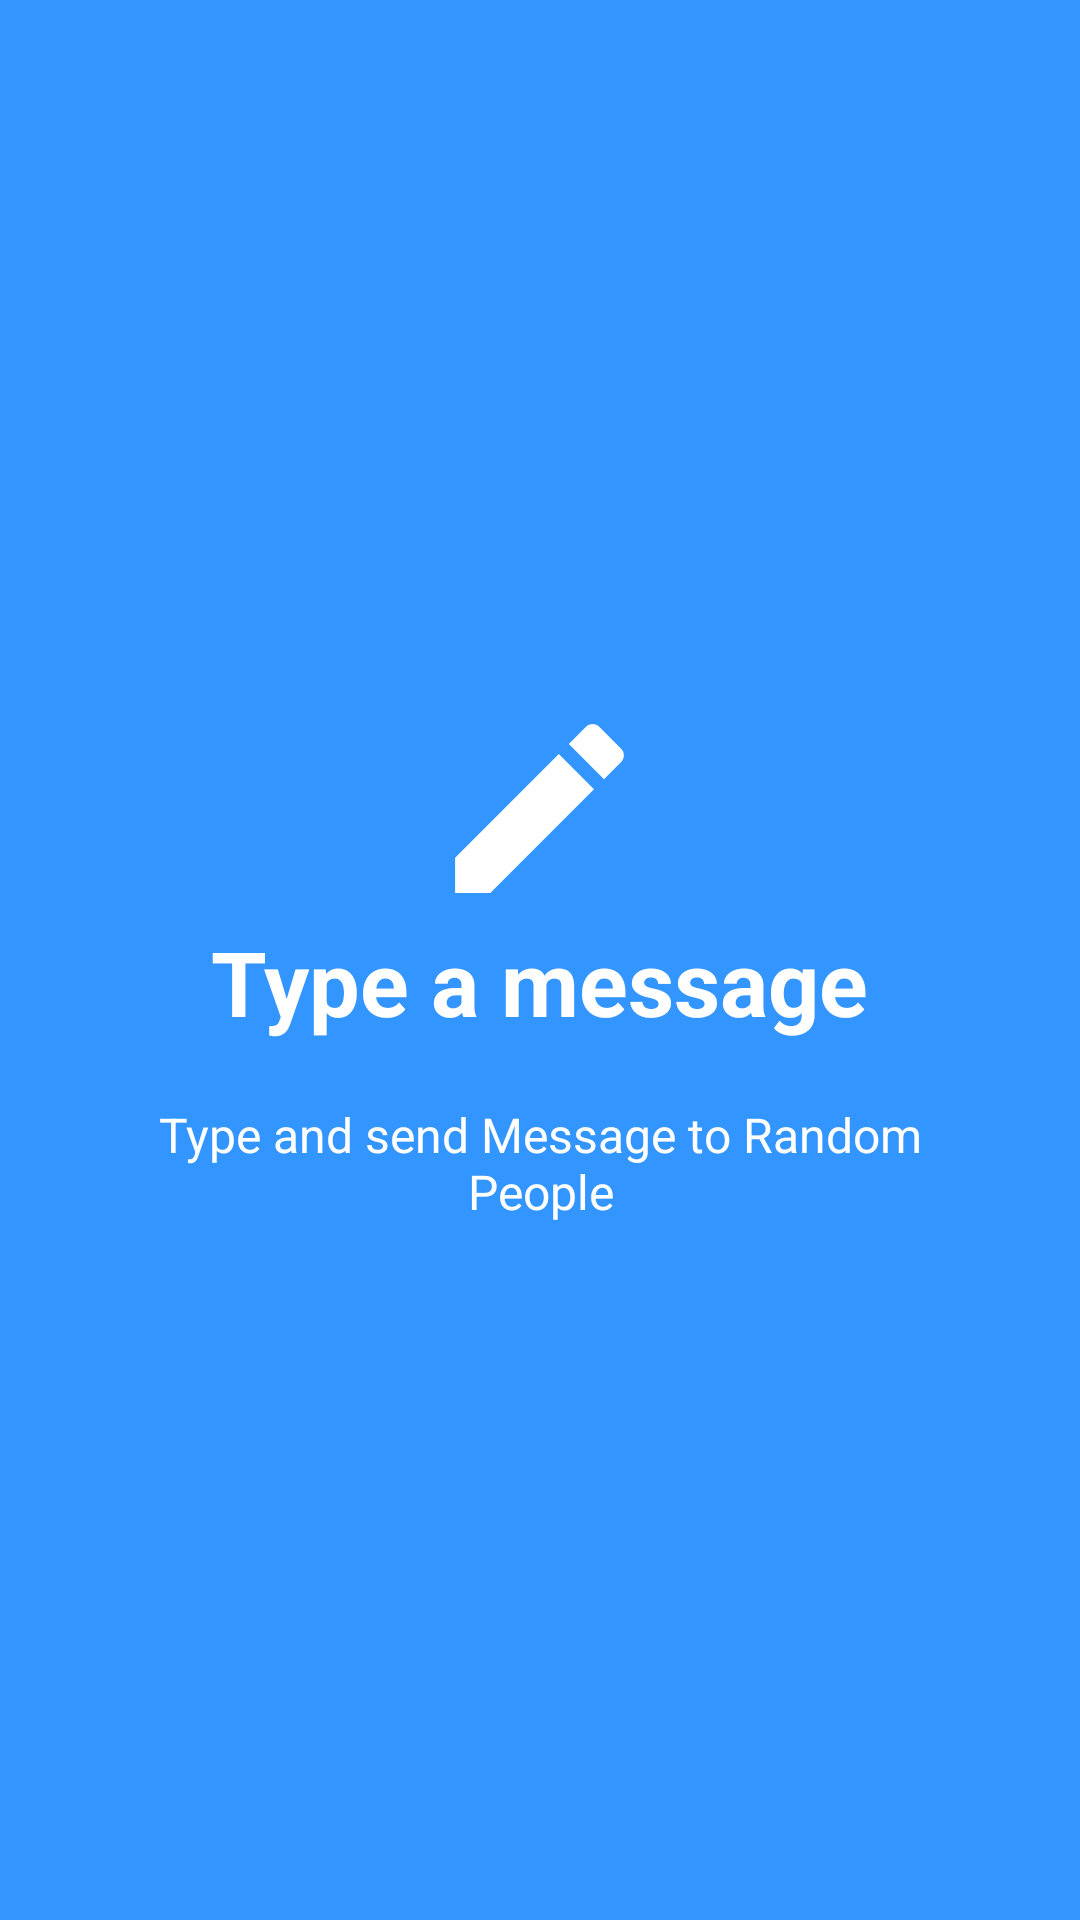

Screen size 1080x1920. Icon name, then its center in pixels as point (x, y):
create: point (539, 808)
